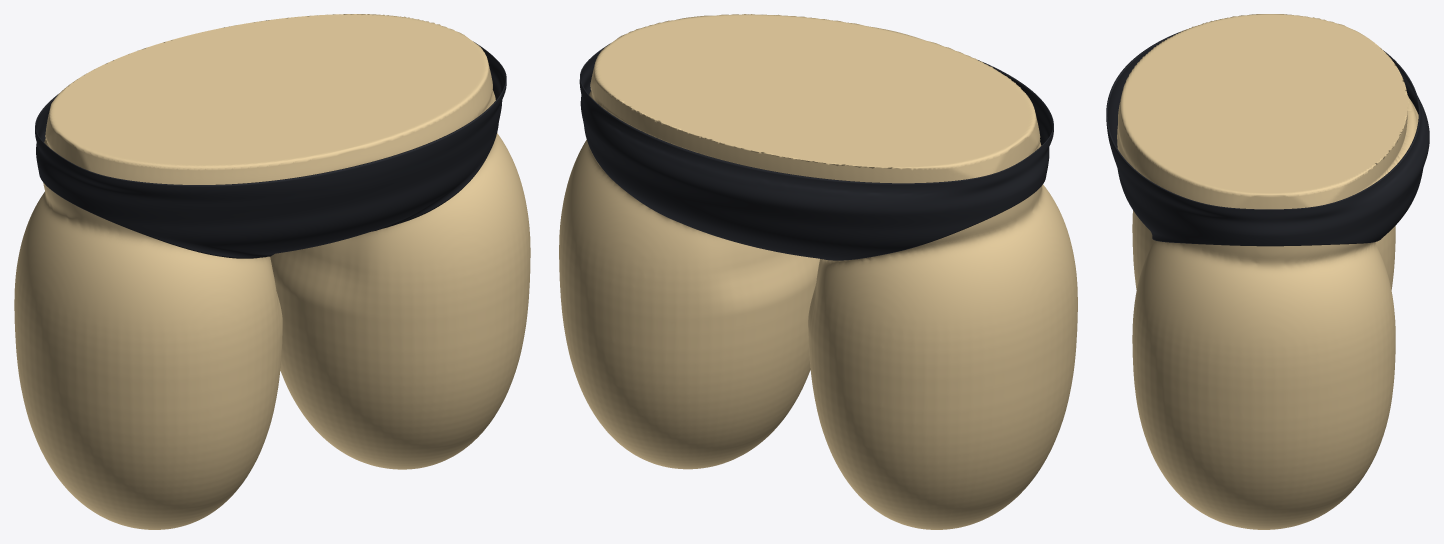
Rendered from Feminine-bikini-bottom.glb.
The picture shows the model from 3 angles, left to right: view 1: azimuth 30°, elevation 25°; view 2: azimuth 150°, elevation 25°; view 3: azimuth 270°, elevation 25°; orthographic projection. The views are drawn at different scales.
Parts seen in each view (by area): view 1: Skin / bikini lower body201, Bottom / seated bikini203.001; view 2: Skin / bikini lower body201, Bottom / seated bikini203.001; view 3: Skin / bikini lower body201, Bottom / seated bikini203.001.
Boxes of the visible parts, x1,y1,x2,y2 form: Skin / bikini lower body201: (14, 14, 530, 529); Bottom / seated bikini203.001: (35, 41, 506, 258); Skin / bikini lower body201: (559, 14, 1077, 529); Bottom / seated bikini203.001: (579, 43, 1053, 260); Skin / bikini lower body201: (1117, 14, 1418, 529); Bottom / seated bikini203.001: (1106, 30, 1429, 246).
Size of the model in its own units: 0.6363 by 0.506 by 0.4114.
